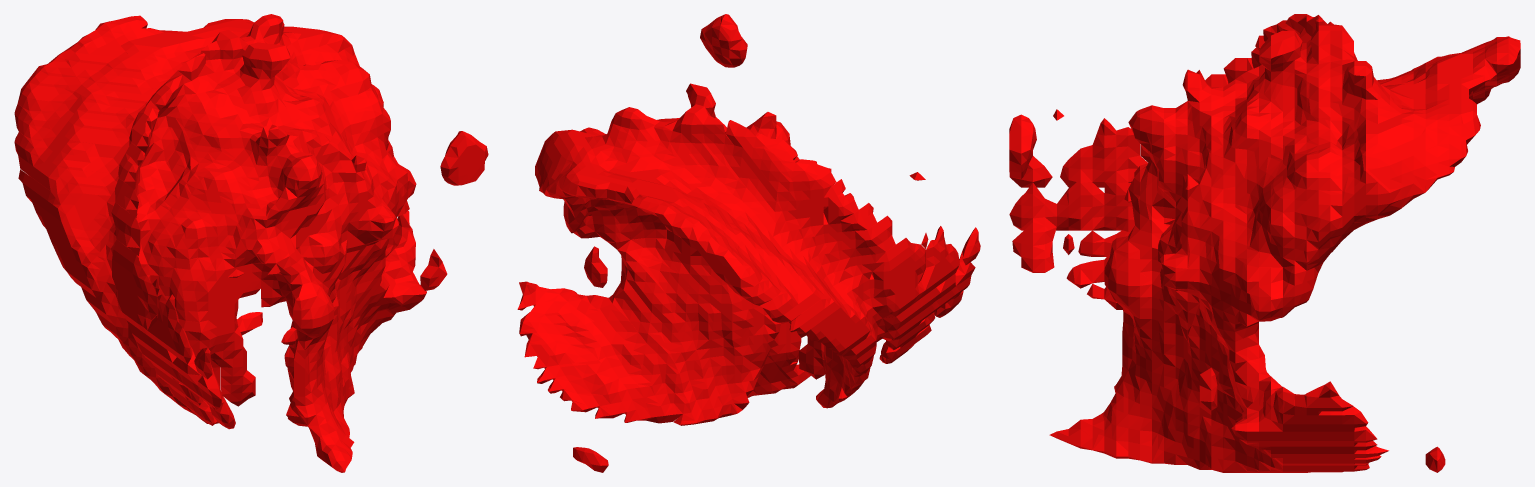
File: B939XXXX-1_valve_7.obj
The picture shows the model from 3 angles, left to right: view 1: azimuth 30°, elevation 25°; view 2: azimuth 150°, elevation 25°; view 3: azimuth 270°, elevation 25°; orthographic projection. The views are drawn at different scales.
Visible parts, largest first — view 1: 7_valve; view 2: 7_valve; view 3: 7_valve.
Part boxes in pixels (<box>): 7_valve: <box>14,14,488,472</box>; 7_valve: <box>517,14,980,472</box>; 7_valve: <box>1009,14,1520,472</box>.
Bounding box in the file's own units: 76.9 × 76.97 × 85.95.
